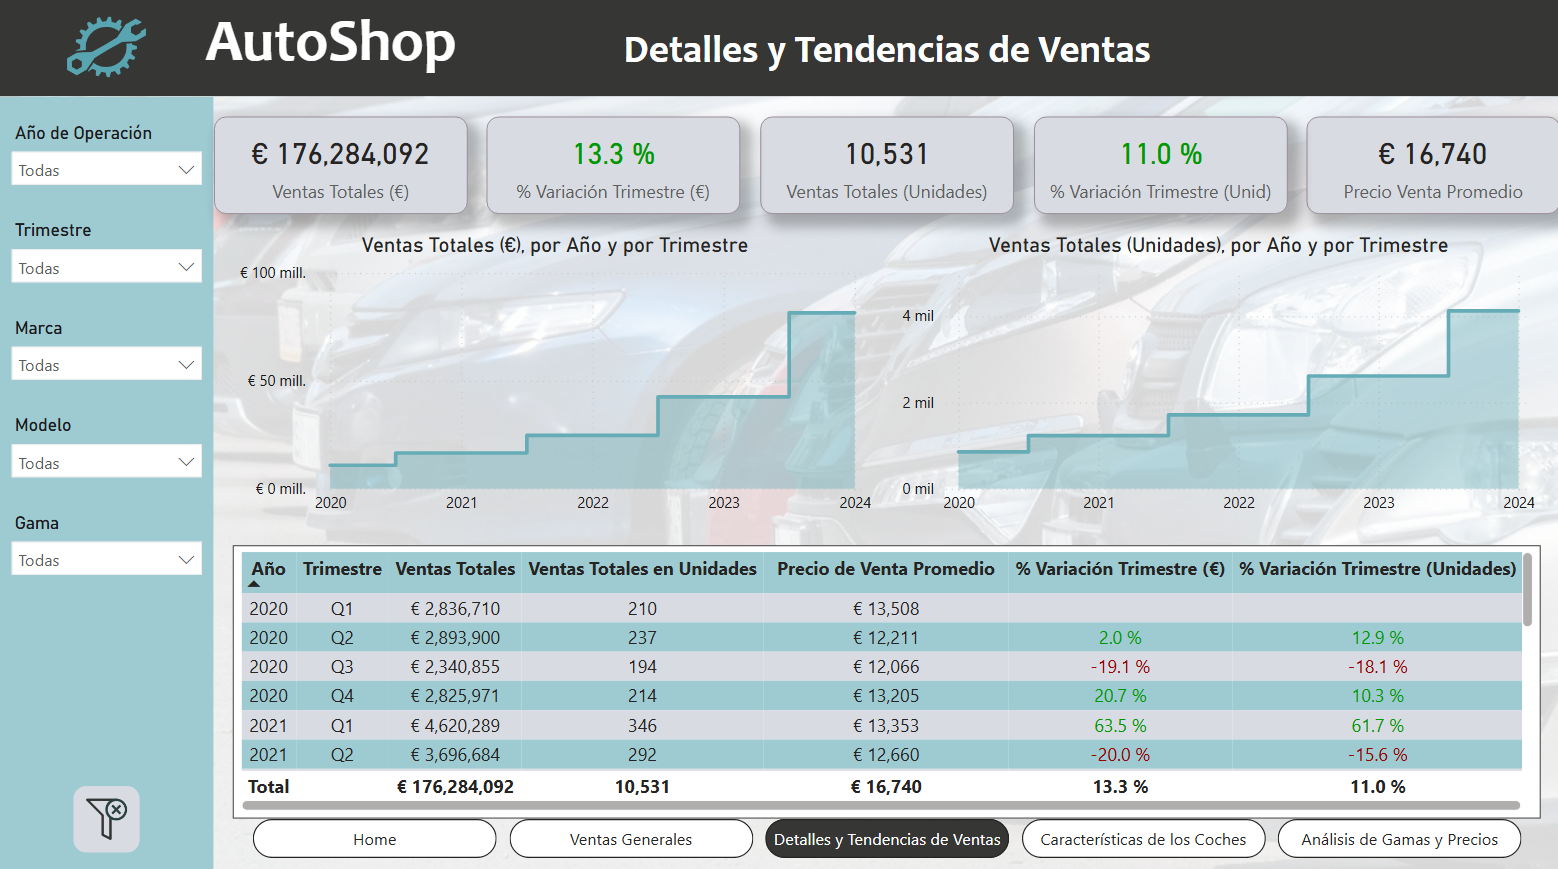

Layout of this report page (visuals, bound fields, positions):
{"tool":"powerbi","page":{"name":"Detalles y Tendencias de Ventas","canvas":[1280,720],"ordinal":2},"visuals":[{"type":"lineChart","title":"Ventas Totales (€), por Año y por Trimestre","fields":{"Category":["Calendario.Año","Calendario.Año - Trimestre"],"Y":["_TMedidas_Ventas.VentasTotales€"]},"box":[192,192,528,240],"z":0},{"type":"shape","box":[0,80,176,640],"z":1000},{"type":"shape","box":[0,0,1280,80],"z":3000},{"type":"slicer","fields":{"Values":["Calendario.Año"]},"box":[0,96,176,80],"z":4000},{"type":"textbox","box":[128,0,288,80],"z":5000},{"type":"slicer","fields":{"Values":["Calendario.Trimestre"]},"box":[0,176,176,80],"z":6000},{"type":"slicer","fields":{"Values":["DIM_modelos.modelo"]},"box":[0,336,176,80],"z":7000},{"type":"card","fields":{"Values":["_TMedidas_Ventas.VentasTotalesUnid"]},"box":[624,96,208,80],"z":8000},{"type":"card","fields":{"Values":["_TMedidas_Ventas.PrecioVentaPromedio"]},"box":[1072,96,208,80],"z":9000},{"type":"card","fields":{"Values":["_TMedidas_Ventas.VentasTotales"]},"box":[176,96,208,80],"z":10000},{"type":"card","fields":{"Values":["_TMedidas_Ventas.%VariacionTrimestre"]},"box":[848,96,208,80],"z":11000},{"type":"card","fields":{"Values":["_TMedidas_Ventas.%VariacionTrimestre€"]},"box":[400,96,208,80],"z":12000},{"type":"textbox","box":[496,16,464,64],"z":13000},{"type":"slicer","fields":{"Values":["DIM_marcas.marca"]},"box":[0,256,176,80],"z":14000},{"type":"lineChart","title":"Ventas Totales (Unidades), por Año y por Trimestre","fields":{"Category":["Calendario.Año","Calendario.Año - Trimestre"],"Y":["_TMedidas_Ventas.VentasTotalesUnid"]},"box":[736,192,528,240],"z":15000},{"type":"tableEx","fields":{"Values":["Calendario.Año","Calendario.Trimestre","_TMedidas_Ventas.VentasTotales€","_TMedidas_Ventas.VentasTotalesUnid","_TMedidas_Ventas.PrecioVentaPromedio","_TMedidas_Ventas.%VariacionTrimestre€","_TMedidas_Ventas.%VariacionTrimestreUnid"]},"box":[192,448,1072,224],"z":16000},{"type":"slicer","fields":{"Values":["DIM_modelos.gama_modelo"]},"box":[0,416,176,80],"z":17000},{"type":"image","box":[48,0,80,80],"z":18000},{"type":"image","box":[48,640,80,64],"z":19000},{"type":"pageNavigator","box":[208,672,1040,32],"z":20000}]}

Visuals, with their boxes in screenshot pixels (x1, y1, x2, y2), scaled from the page's 1280x720 canvas onto the 1558x869 screenshot:
"Ventas Totales (€), por Año y por Trimestre" lineChart: rect(234, 232, 876, 521)
shape: rect(0, 97, 214, 868)
shape: rect(0, 0, 1557, 97)
slicer - Calendario.Año: rect(0, 116, 214, 212)
textbox: rect(156, 0, 506, 97)
slicer - Calendario.Trimestre: rect(0, 212, 214, 309)
slicer - DIM_modelos.modelo: rect(0, 406, 214, 502)
card - _TMedidas_Ventas.VentasTotalesUnid: rect(760, 116, 1013, 212)
card - _TMedidas_Ventas.PrecioVentaPromedio: rect(1305, 116, 1557, 212)
card - _TMedidas_Ventas.VentasTotales: rect(214, 116, 467, 212)
card - _TMedidas_Ventas.%VariacionTrimestre: rect(1032, 116, 1285, 212)
card - _TMedidas_Ventas.%VariacionTrimestre€: rect(487, 116, 740, 212)
textbox: rect(604, 19, 1168, 97)
slicer - DIM_marcas.marca: rect(0, 309, 214, 406)
"Ventas Totales (Unidades), por Año y por Trimestre" lineChart: rect(896, 232, 1539, 521)
tableEx - Calendario.Año x Calendario.Trimestre: rect(234, 541, 1539, 811)
slicer - DIM_modelos.gama_modelo: rect(0, 502, 214, 599)
image: rect(58, 0, 156, 97)
image: rect(58, 772, 156, 850)
pageNavigator: rect(253, 811, 1519, 850)
